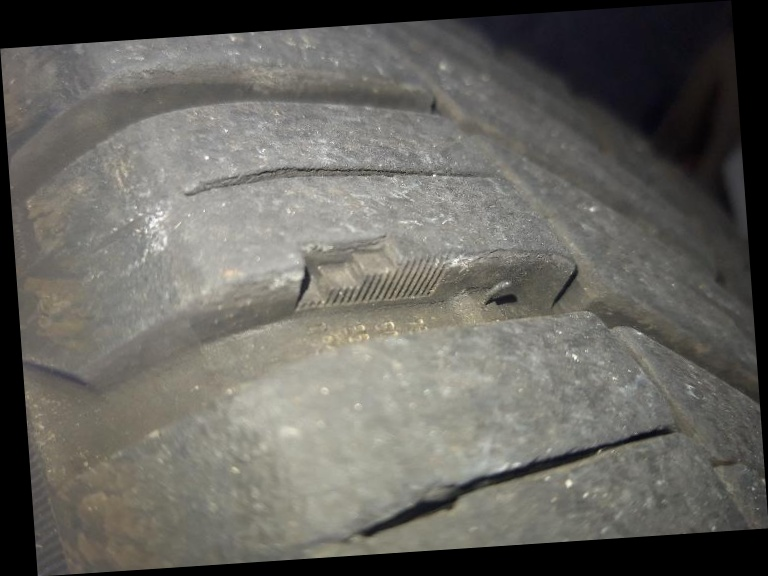temoin:90: (275, 211, 462, 328)
